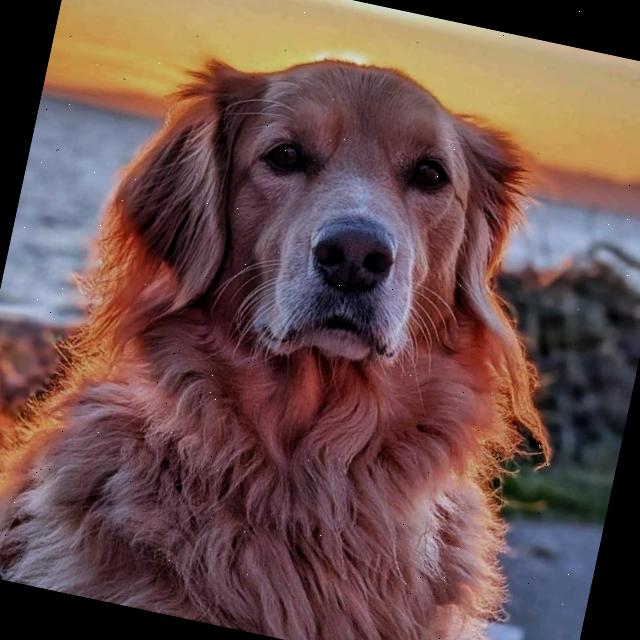golden_retriever_dog: (33, 0, 590, 608)
